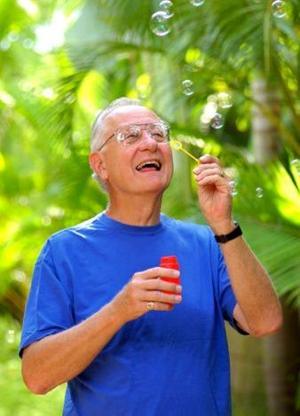person: (20, 96, 283, 415)
